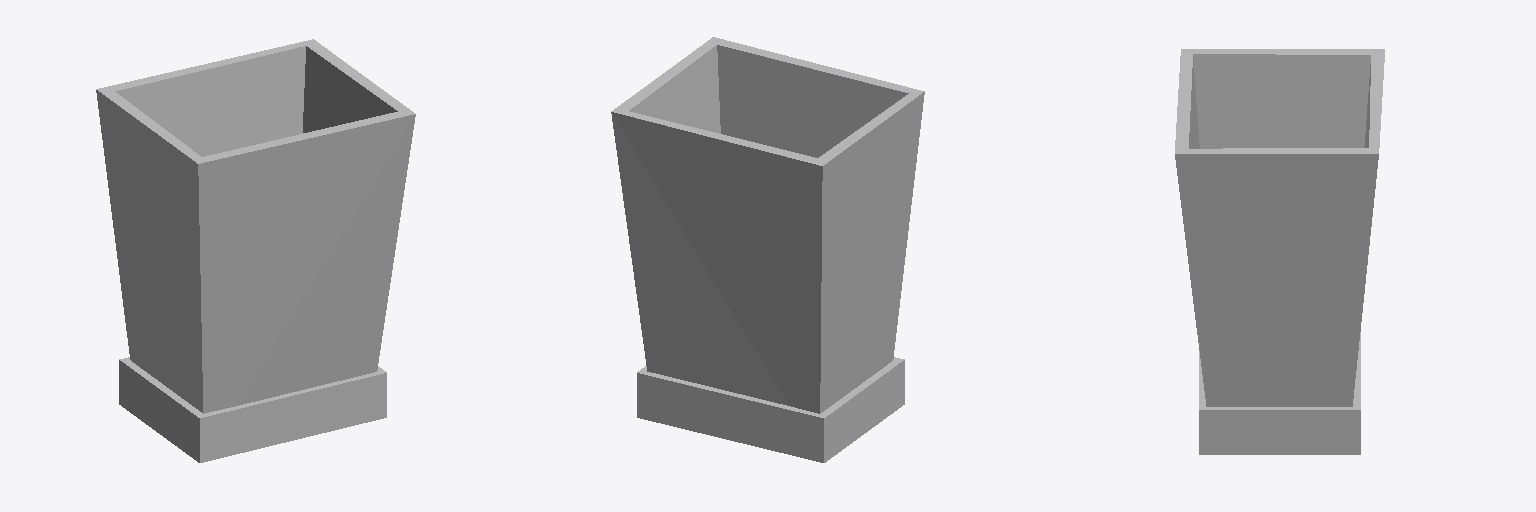
Rendered from bin_model.obj.
The picture shows the model from 3 angles: view 1: azimuth 30°, elevation 25°; view 2: azimuth 150°, elevation 25°; view 3: azimuth 270°, elevation 25°; orthographic projection.
Parts seen in each view (by area): view 1: group[number redacted], group[number redacted]; view 2: group[number redacted], group[number redacted]; view 3: group[number redacted], group[number redacted].
Part boxes in pixels (left/top/right/bottom): group[number redacted]: left=96, top=39, right=415, bottom=413; group[number redacted]: left=119, top=357, right=386, bottom=462; group[number redacted]: left=611, top=37, right=924, bottom=413; group[number redacted]: left=637, top=357, right=904, bottom=462; group[number redacted]: left=1175, top=49, right=1384, bottom=406; group[number redacted]: left=1199, top=332, right=1360, bottom=454.
Size of the model in its own units: 0.4 by 0.55 by 0.34.